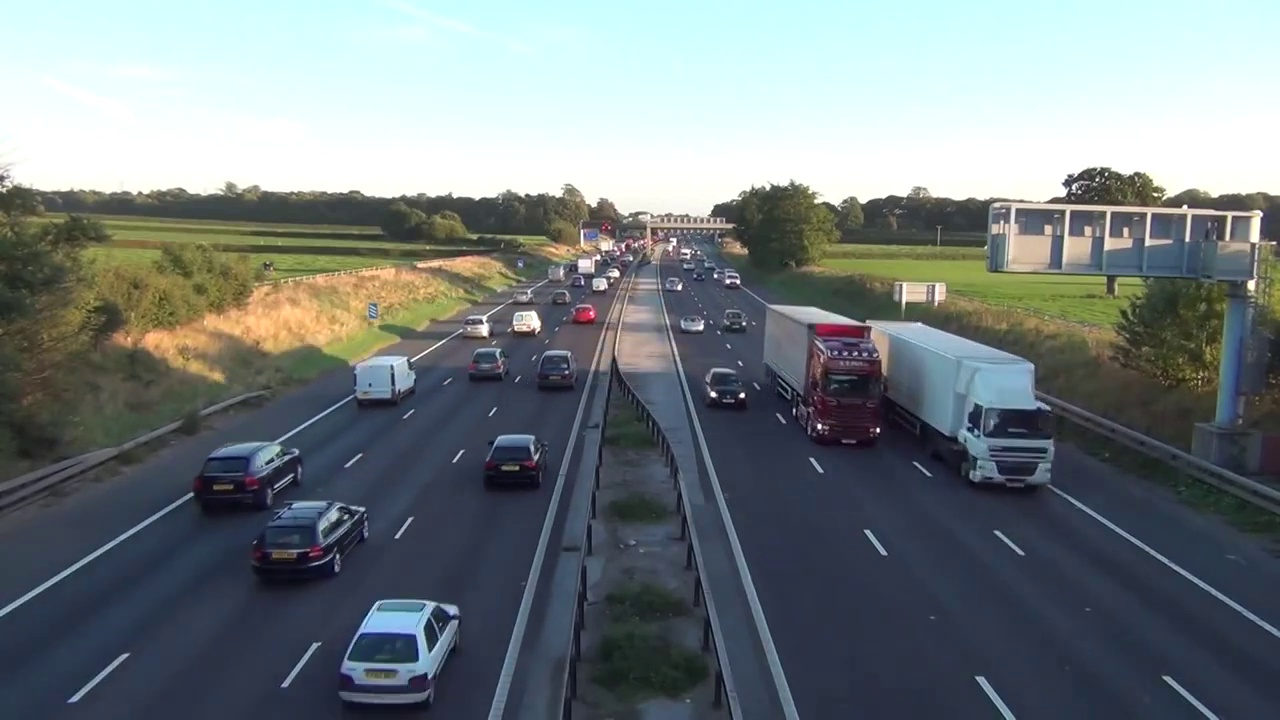bus: (337, 600, 461, 709), (249, 502, 368, 578), (192, 441, 305, 507), (481, 433, 547, 490), (704, 367, 747, 408), (537, 349, 577, 388), (468, 348, 509, 379), (463, 316, 493, 339), (722, 308, 747, 332), (572, 304, 597, 325), (679, 315, 705, 333), (551, 290, 572, 305), (512, 290, 534, 304), (665, 278, 684, 292)
car: (865, 320, 1053, 488), (764, 306, 883, 443)
lorry: (354, 357, 416, 408), (513, 312, 542, 334), (592, 277, 609, 293), (725, 274, 742, 288)
